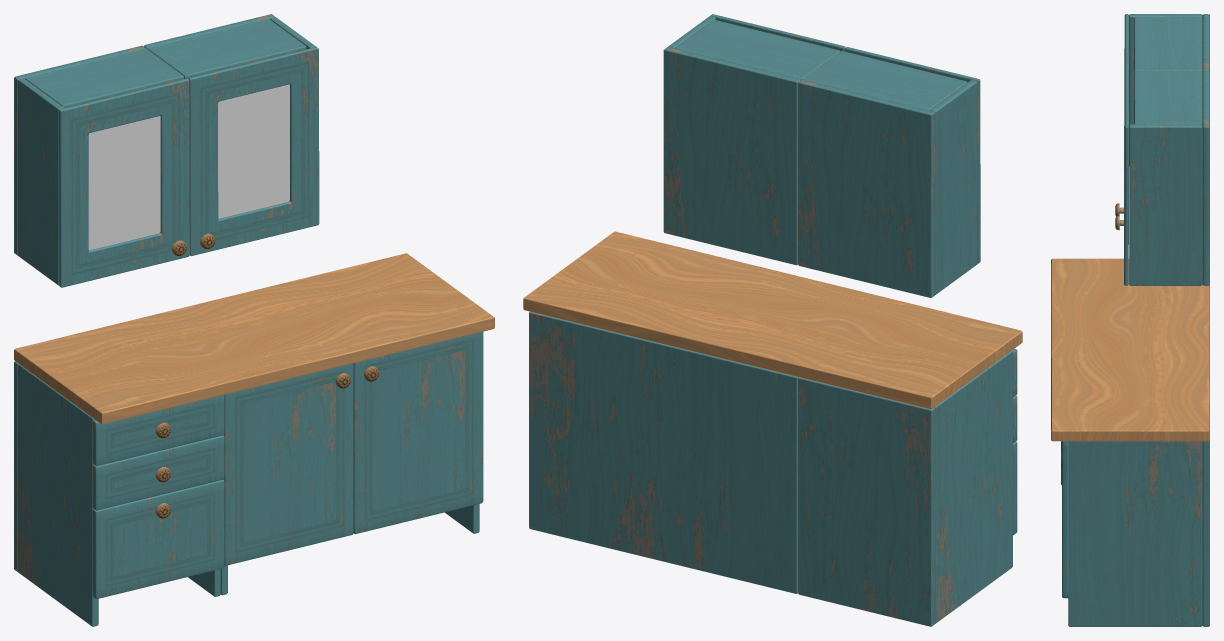
3 views of the same model, side by side, from view 1: azimuth 30°, elevation 25°; view 2: azimuth 150°, elevation 25°; view 3: azimuth 270°, elevation 25° (orthographic). The views are drawn at different scales.
Visible parts, largest first — view 1: Cabinet_FrontGlass_A.006, Cabinet_FrontA.005, CabinetTable_B.002, Cabinet_Side_B.012, Cabinet_FrontB.004, Cabinet_FrontC.003, Cabinet_Shelf_B.006, Cabinet_Side_C.007, Cabinet_Back_D.003, Cabinet_Back_C.003, Cabinet_Side_B.011; view 2: Cabinet_Back_B.005, Cabinet_Back_D.003, CabinetTable_B.002, Cabinet_Back_C.003, Cabinet_Side_B.012, Cabinet_Shelf_B.006, Cabinet_Side_C.007, Cabinet_FrontGlass_A.006; view 3: CabinetTable_B.002, Cabinet_Side_B.010, Cabinet_Side_C.008, Cabinet_Shelf_B.006, Cabinet_Back_D.003, Cabinet_FrontGlass_A.006, Cabinet_Back_B.005, Cabinet_FrontA.005, Cabinet_Side_C.007.
Part boxes in pixels (x1,y1,x2,y2): Cabinet_FrontGlass_A.006: (59, 47, 319, 287); Cabinet_FrontA.005: (223, 332, 483, 565); CabinetTable_B.002: (14, 253, 494, 424); Cabinet_Side_B.012: (18, 364, 98, 626); Cabinet_FrontB.004: (92, 479, 224, 599); Cabinet_FrontC.003: (92, 395, 224, 510); Cabinet_Shelf_B.006: (25, 18, 306, 107); Cabinet_Side_C.007: (18, 78, 64, 285); Cabinet_Back_D.003: (14, 14, 274, 255); Cabinet_Back_C.003: (14, 361, 18, 571); Cabinet_Side_B.011: (188, 565, 227, 596); Cabinet_Back_B.005: (529, 312, 798, 593); Cabinet_Back_D.003: (663, 47, 935, 297); CabinetTable_B.002: (523, 231, 1022, 409); Cabinet_Back_C.003: (798, 377, 935, 626); Cabinet_Side_B.012: (934, 350, 1012, 623); Cabinet_Shelf_B.006: (675, 20, 967, 110); Cabinet_Side_C.007: (929, 80, 977, 294); Cabinet_FrontGlass_A.006: (710, 14, 980, 263); CabinetTable_B.002: (1051, 258, 1209, 441); Cabinet_Side_B.010: (1068, 441, 1202, 626); Cabinet_Side_C.008: (1129, 124, 1202, 285); Cabinet_Shelf_B.006: (1134, 17, 1202, 125); Cabinet_Back_D.003: (1202, 14, 1209, 285); Cabinet_FrontGlass_A.006: (1124, 14, 1129, 285); Cabinet_Back_B.005: (1202, 440, 1209, 626); Cabinet_FrontA.005: (1062, 441, 1068, 598); Cabinet_Side_C.007: (1129, 14, 1202, 124).
Size of the model in its own units: 318 by 381 by 123.
